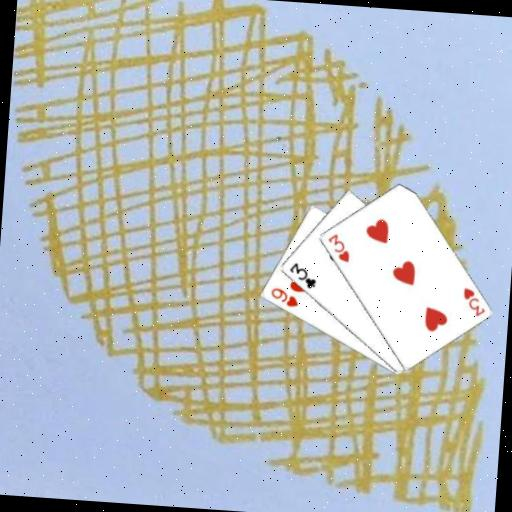3C: (285, 259, 319, 291)
3H: (324, 230, 353, 264), (459, 284, 488, 318)
9H: (266, 284, 300, 309)
